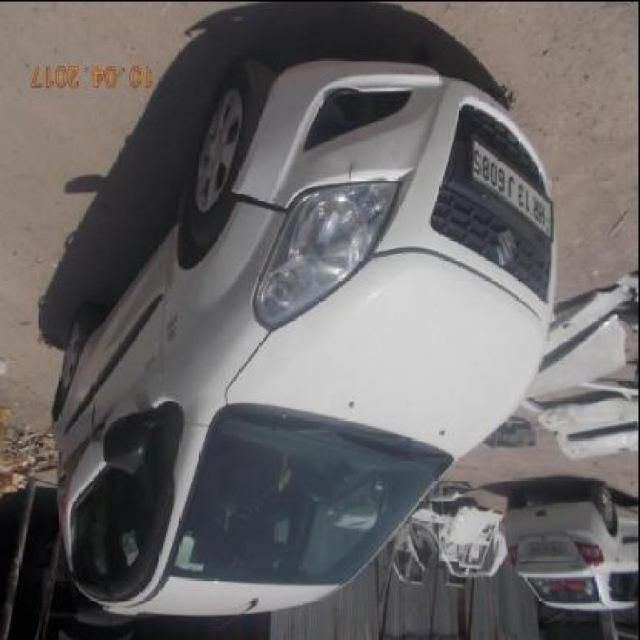damage: (233, 184, 289, 217), (342, 156, 362, 182)
